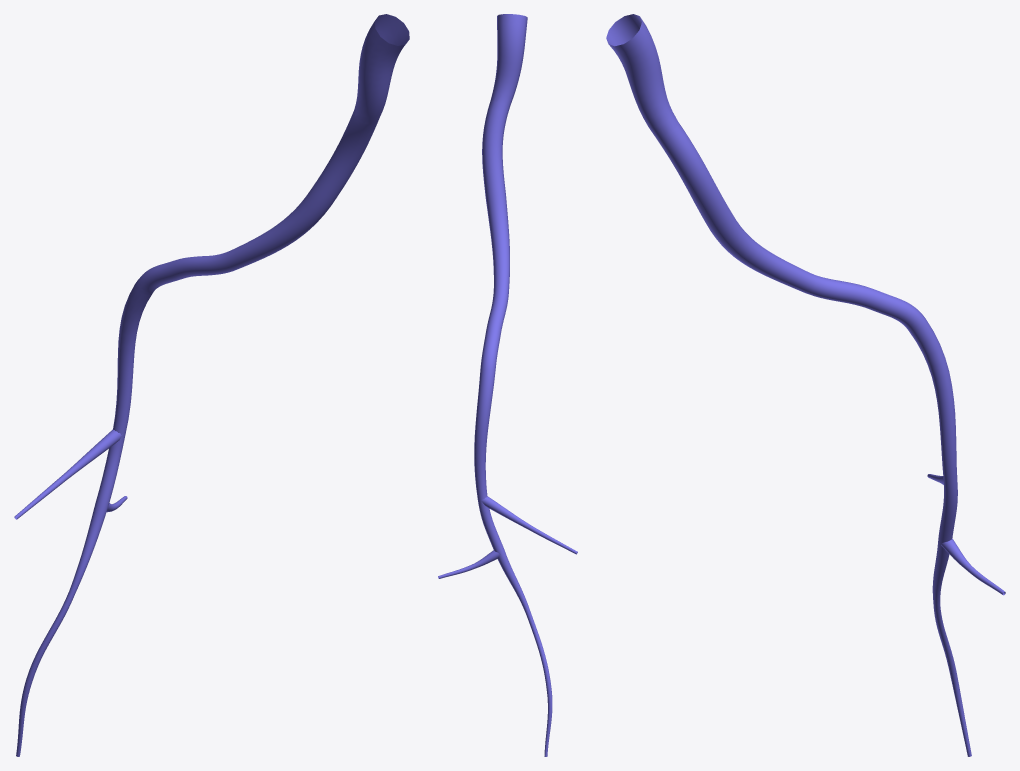
File: Inferior_gluteal_veins.r_BezierCurve.142.glb
The picture shows the model from 3 angles, left to right: view 1: azimuth 30°, elevation 25°; view 2: azimuth 150°, elevation 25°; view 3: azimuth 270°, elevation 25°; orthographic projection. The views are drawn at different scales.
Parts seen in each view (by area): view 1: Inferior_gluteal_veins.r_BezierCurve.142; view 2: Inferior_gluteal_veins.r_BezierCurve.142; view 3: Inferior_gluteal_veins.r_BezierCurve.142.
Part boxes in pixels (box(x1,y1,x2,y2)): Inferior_gluteal_veins.r_BezierCurve.142: box(14, 14, 409, 756); Inferior_gluteal_veins.r_BezierCurve.142: box(438, 14, 577, 756); Inferior_gluteal_veins.r_BezierCurve.142: box(606, 14, 1005, 756).
Size of the model in its own units: 0.0427 by 0.1325 by 0.0569.
